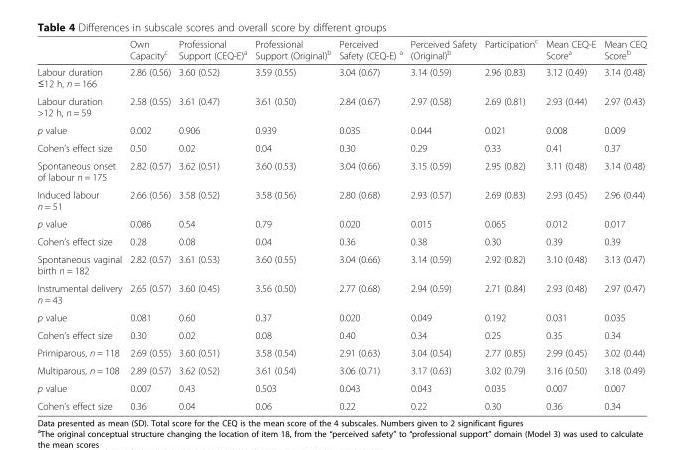table: (36, 36, 646, 411)
table column: (36, 36, 125, 411), (250, 36, 334, 411), (174, 36, 250, 411), (405, 36, 479, 411), (334, 36, 405, 411), (479, 36, 541, 411), (541, 36, 599, 411), (125, 36, 174, 411), (599, 36, 646, 411)
table column header: (36, 36, 646, 63)
table row: (36, 63, 646, 92), (36, 92, 646, 121), (36, 156, 646, 185), (36, 185, 646, 214), (36, 250, 646, 279), (36, 279, 646, 308), (36, 36, 646, 63), (36, 138, 646, 156), (36, 214, 646, 232), (36, 232, 646, 250), (36, 325, 646, 343), (36, 343, 646, 361), (36, 361, 646, 379), (36, 121, 646, 138), (36, 308, 646, 325), (36, 379, 646, 396), (36, 396, 646, 411)
